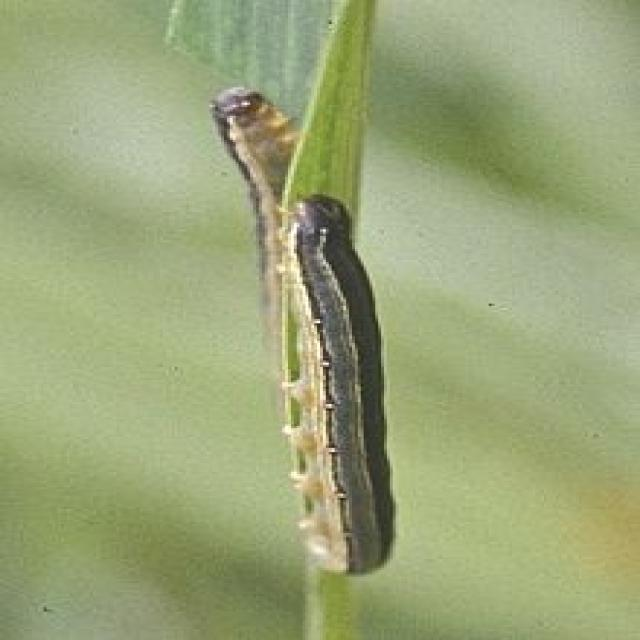Army Worm: (285, 190, 410, 580), (208, 86, 302, 396)
